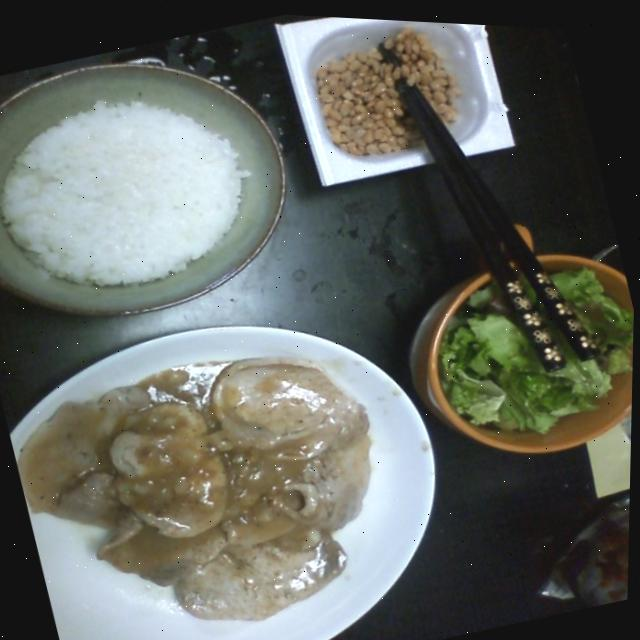猪肉菜式: (1, 312, 428, 640)
米饭主食: (0, 49, 286, 334)
蔬菜料理: (407, 241, 636, 469)
